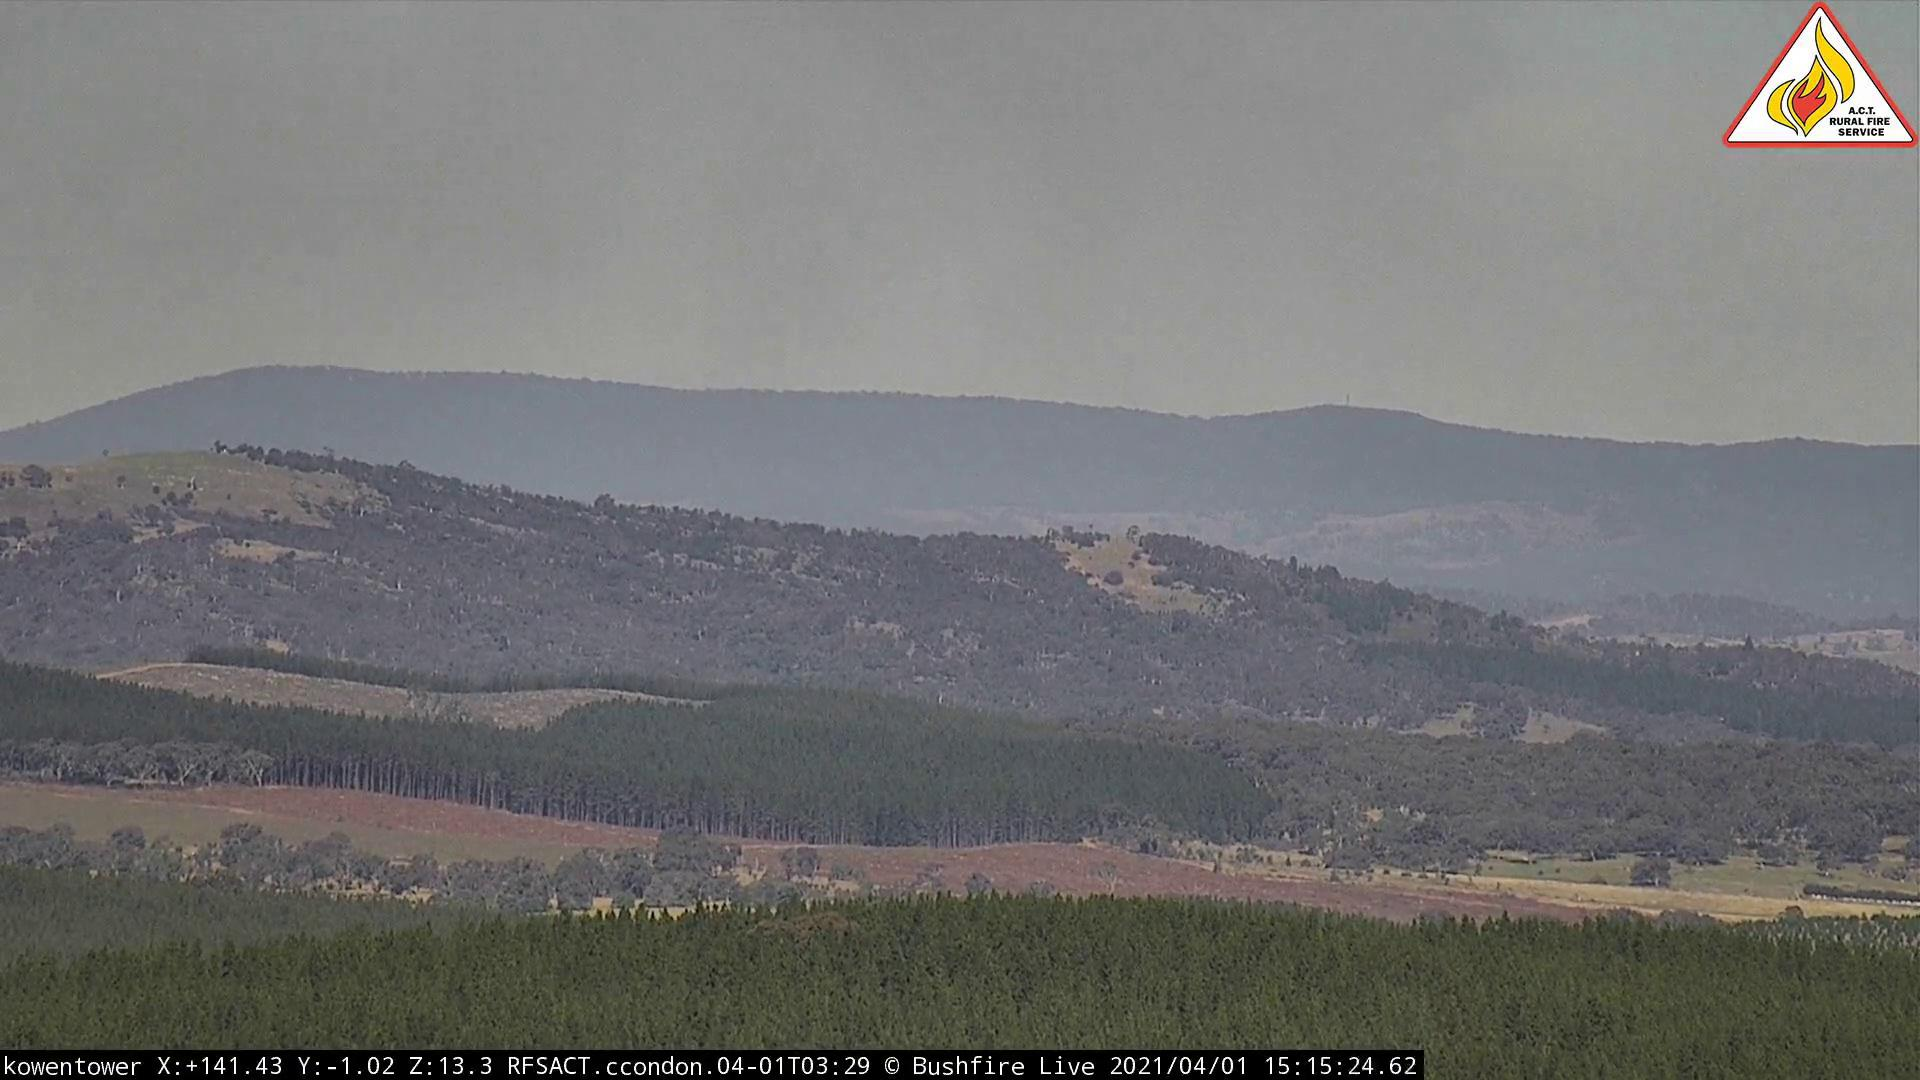Smoke: (371, 61, 1145, 404)
